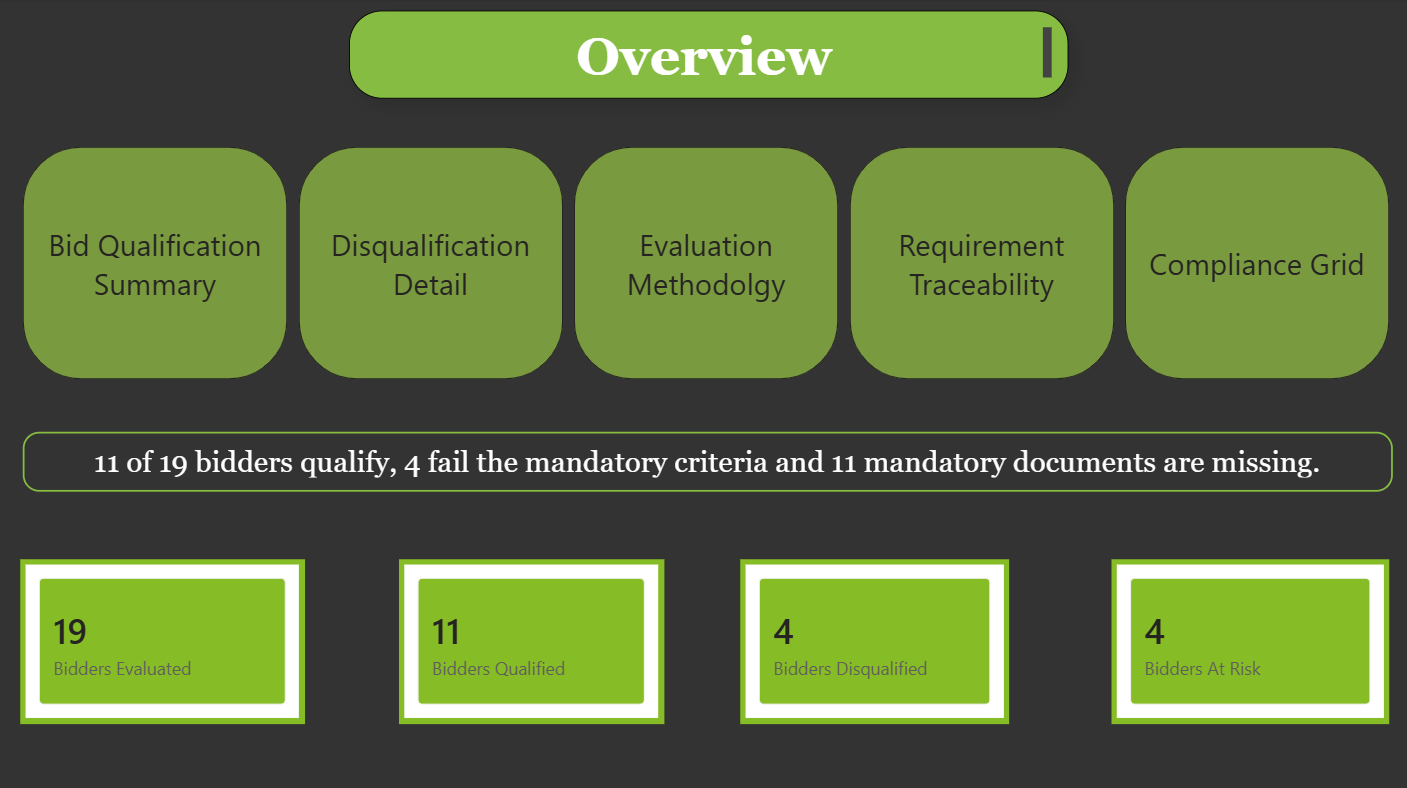

The page's visual inventory and layout, read from the dashboard file:
{"tool":"powerbi","page":{"name":"Overview","canvas":[1280,720],"ordinal":0},"visuals":[{"type":"pageNavigator","box":[22,135,1242.9,211.3],"z":0},{"type":"textbox","box":[317.5,11.2,652.5,79.8],"z":1000},{"type":"textbox","box":[22,393.3,1242.9,54.3],"z":2000},{"type":"cardVisual","fields":{"Data":["03_AI_Summary.Bidders Evaluated"]},"box":[18.8,509.2,258.4,150],"z":3000},{"type":"cardVisual","fields":{"Data":["03_AI_Summary.Bidders At Risk"]},"box":[1009.5,509.2,252.1,150],"z":4000},{"type":"cardVisual","fields":{"Data":["03_AI_Summary.Bidders Qualified"]},"box":[363.4,509.2,240.9,150],"z":5000},{"type":"cardVisual","fields":{"Data":["01_Matching.Bidders Disqualified"]},"box":[672.9,509.2,244.1,150],"z":6000}]}

Visuals, with their boxes in screenshot pixels (x1, y1, x2, y2), scaled from the page's 1280x720 canvas onto the 1407x788 screenshot:
pageNavigator: bbox=(24, 148, 1390, 379)
textbox: bbox=(349, 12, 1066, 100)
textbox: bbox=(24, 430, 1390, 490)
cardVisual - 03_AI_Summary.Bidders Evaluated: bbox=(21, 557, 305, 721)
cardVisual - 03_AI_Summary.Bidders At Risk: bbox=(1110, 557, 1387, 721)
cardVisual - 03_AI_Summary.Bidders Qualified: bbox=(399, 557, 664, 721)
cardVisual - 01_Matching.Bidders Disqualified: bbox=(740, 557, 1008, 721)
